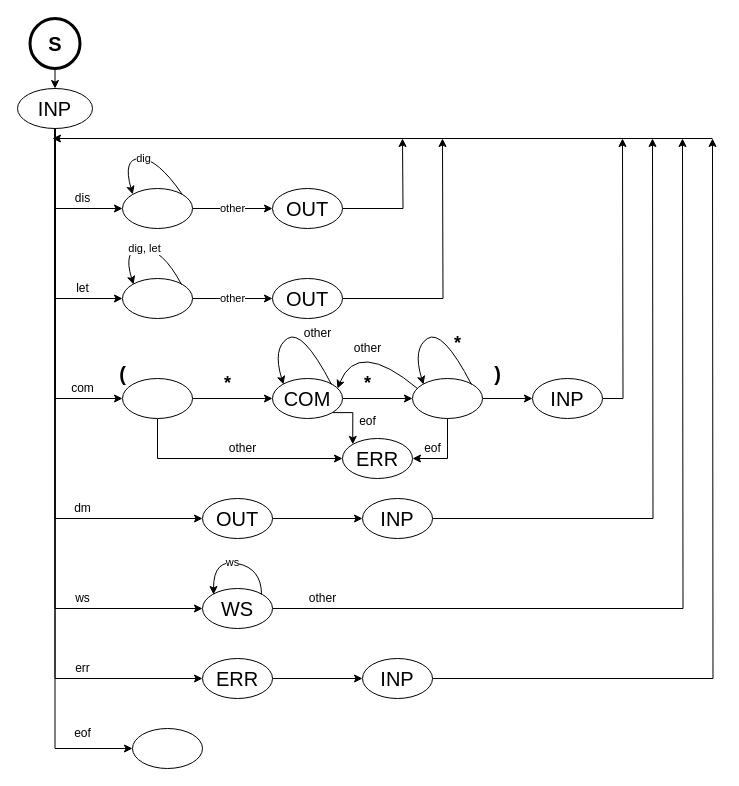
Some shapes in this 739 by 786 pixel diagram are drawn without their labels. Each missing label, with the centre of its shape:
DCOM: (157,398)
ECOM: (447,398)
EXIT: (167,748)
IDN: (157,298)
NUM: (157,208)
